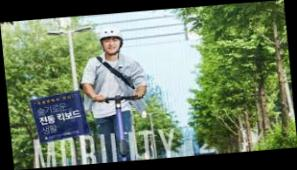helmet: (80, 25, 156, 164)
